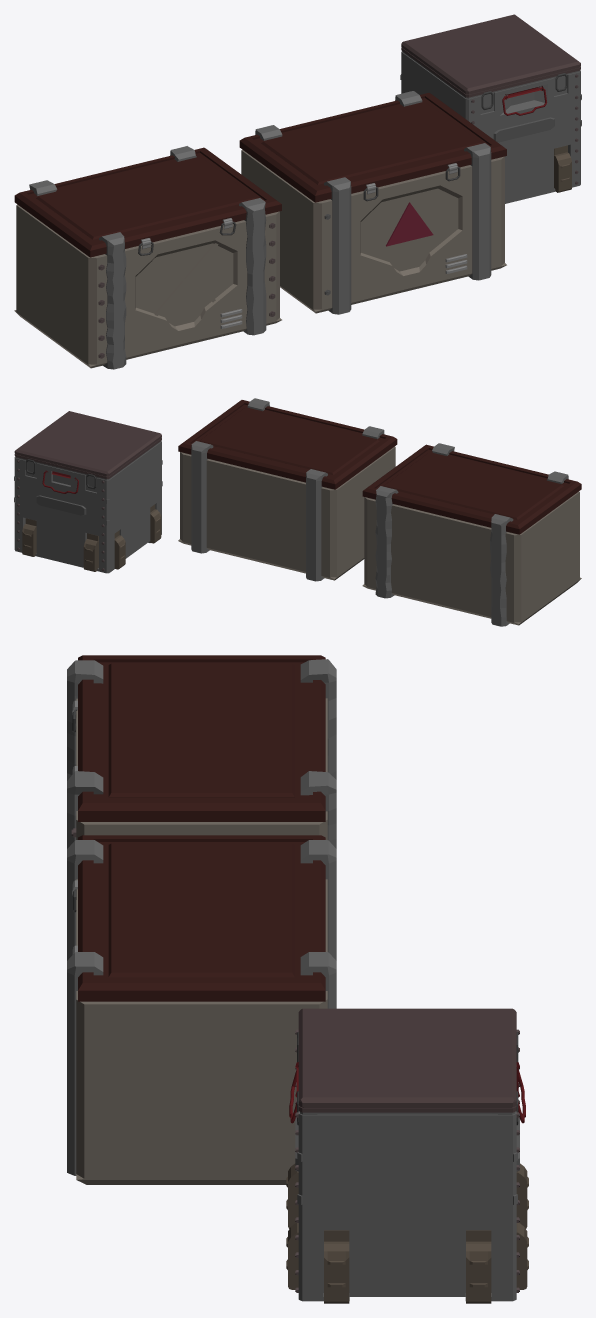
Rendered from Modular_case.fbx.
3 renders of one model, top to bottom at view 1: azimuth 30°, elevation 25°; view 2: azimuth 150°, elevation 25°; view 3: azimuth 270°, elevation 25°, orthographic. The views are drawn at different scales.
Parts seen in each view (by area): view 1: 立方体.022, 立方体.024, 平面.027; view 2: 立方体.022, 立方体.024, 平面.027; view 3: 立方体.024, 平面.027, 立方体.022.
Part boxes in pixels (x1,y1,x2,y2): 立方体.022: [14, 146, 281, 369]; 立方体.024: [239, 91, 506, 314]; 平面.027: [400, 14, 581, 203]; 立方体.022: [362, 443, 581, 626]; 立方体.024: [178, 398, 397, 581]; 平面.027: [14, 411, 162, 573]; 立方体.024: [67, 835, 336, 1184]; 平面.027: [286, 1008, 528, 1303]; 立方体.022: [67, 655, 336, 848].
Size of the model in its own units: 4043 by 873 by 1745.
